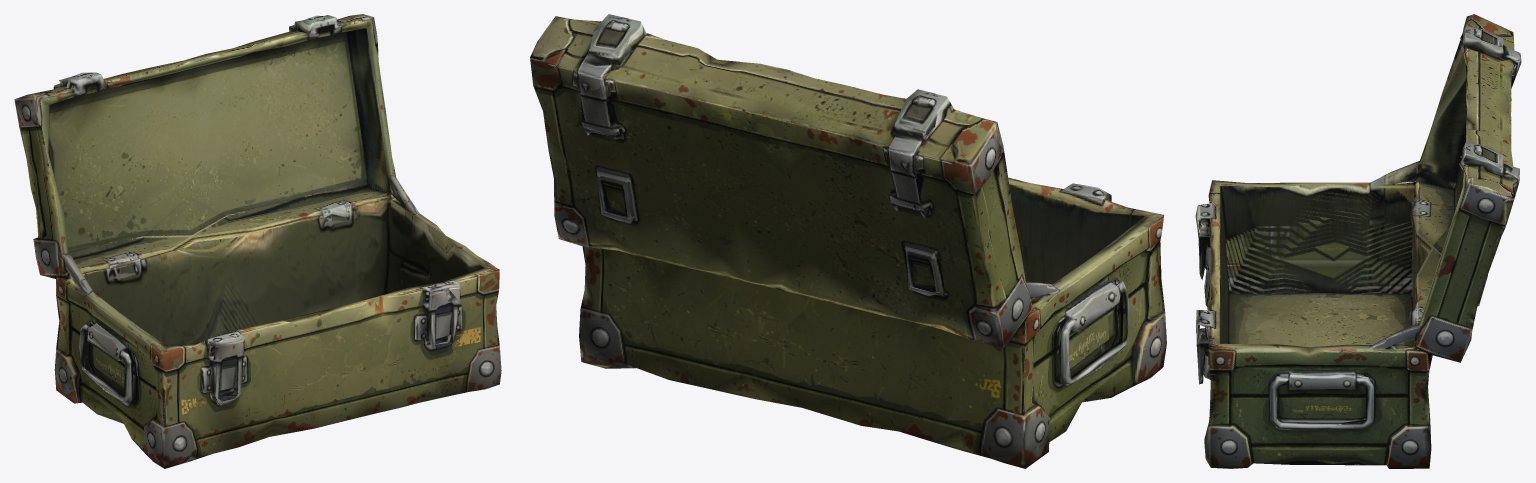
Rendered from Loot_MilitaryCrate_Open.fbx.
3 views of the same model, side by side, from view 1: azimuth 30°, elevation 25°; view 2: azimuth 150°, elevation 25°; view 3: azimuth 270°, elevation 25° (orthographic). The views are drawn at different scales.
Visible parts, largest first — view 1: texture_mapping; view 2: texture_mapping; view 3: texture_mapping.
Part boxes in pixels (<box>): texture_mapping: <box>14,14,501,468</box>; texture_mapping: <box>530,14,1166,468</box>; texture_mapping: <box>1195,14,1521,468</box>.
Size of the model in its own units: 0.9964 by 0.7875 by 0.7888.
1 material, 1 textured.
